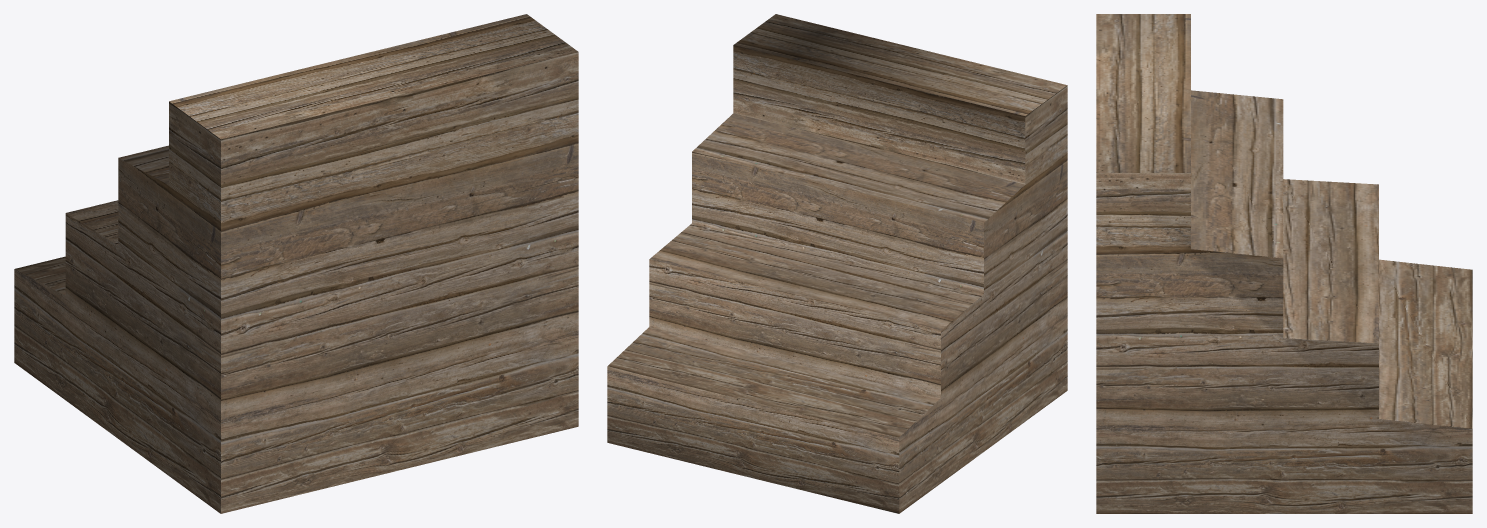
The model's file is Stair.obj.
3 renders of one model, left to right at view 1: azimuth 30°, elevation 25°; view 2: azimuth 150°, elevation 25°; view 3: azimuth 270°, elevation 25°, orthographic. The views are drawn at different scales.
Parts seen in each view (by area): view 1: pCube1; view 2: pCube1; view 3: pCube1.
Part boxes in pixels (box(x1,y1,x2,y2)): pCube1: box(14, 14, 578, 513); pCube1: box(607, 14, 1067, 513); pCube1: box(1096, 14, 1472, 513).
Size of the model in its own units: 2 by 2 by 2.
1 material, 1 textured.
